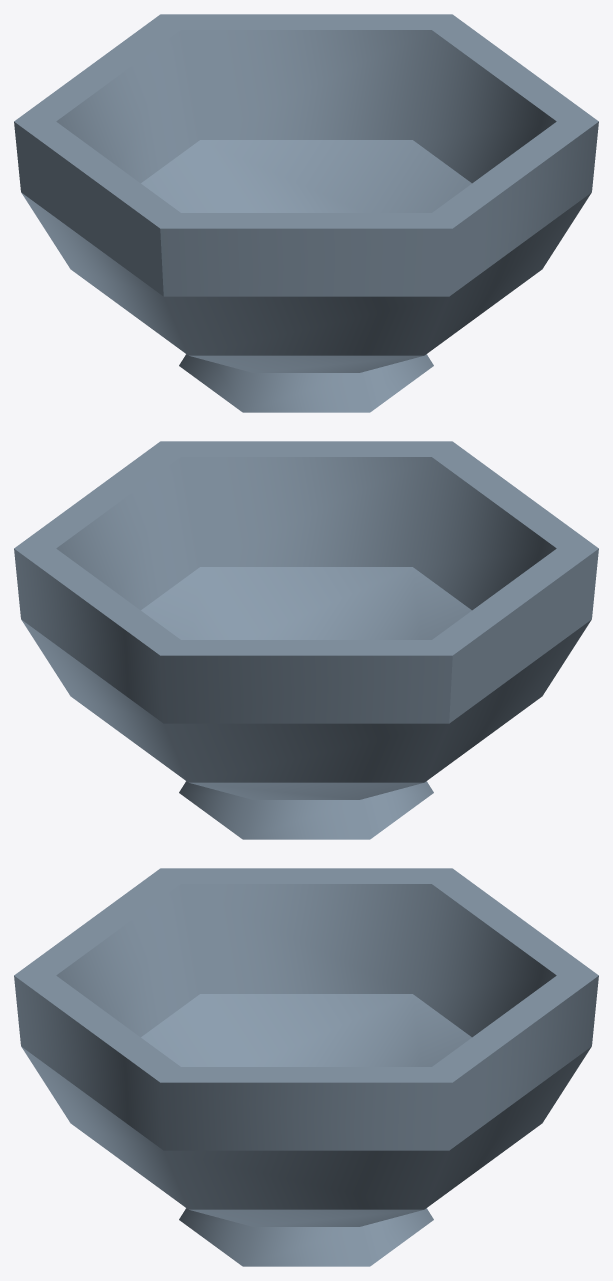
Rendered from mortar.obj.
3 views of the same model, one above another, from view 1: azimuth 30°, elevation 25°; view 2: azimuth 150°, elevation 25°; view 3: azimuth 270°, elevation 25° (orthographic).
Parts seen in each view (by area): view 1: mortar; view 2: mortar; view 3: mortar.
Part boxes in pixels (box(x1,y1,x2,y2)): mortar: box(14, 14, 598, 412); mortar: box(14, 441, 598, 839); mortar: box(14, 868, 598, 1266).
Bounding box in the file's own units: 0.3955 × 0.2104 × 0.4567.
